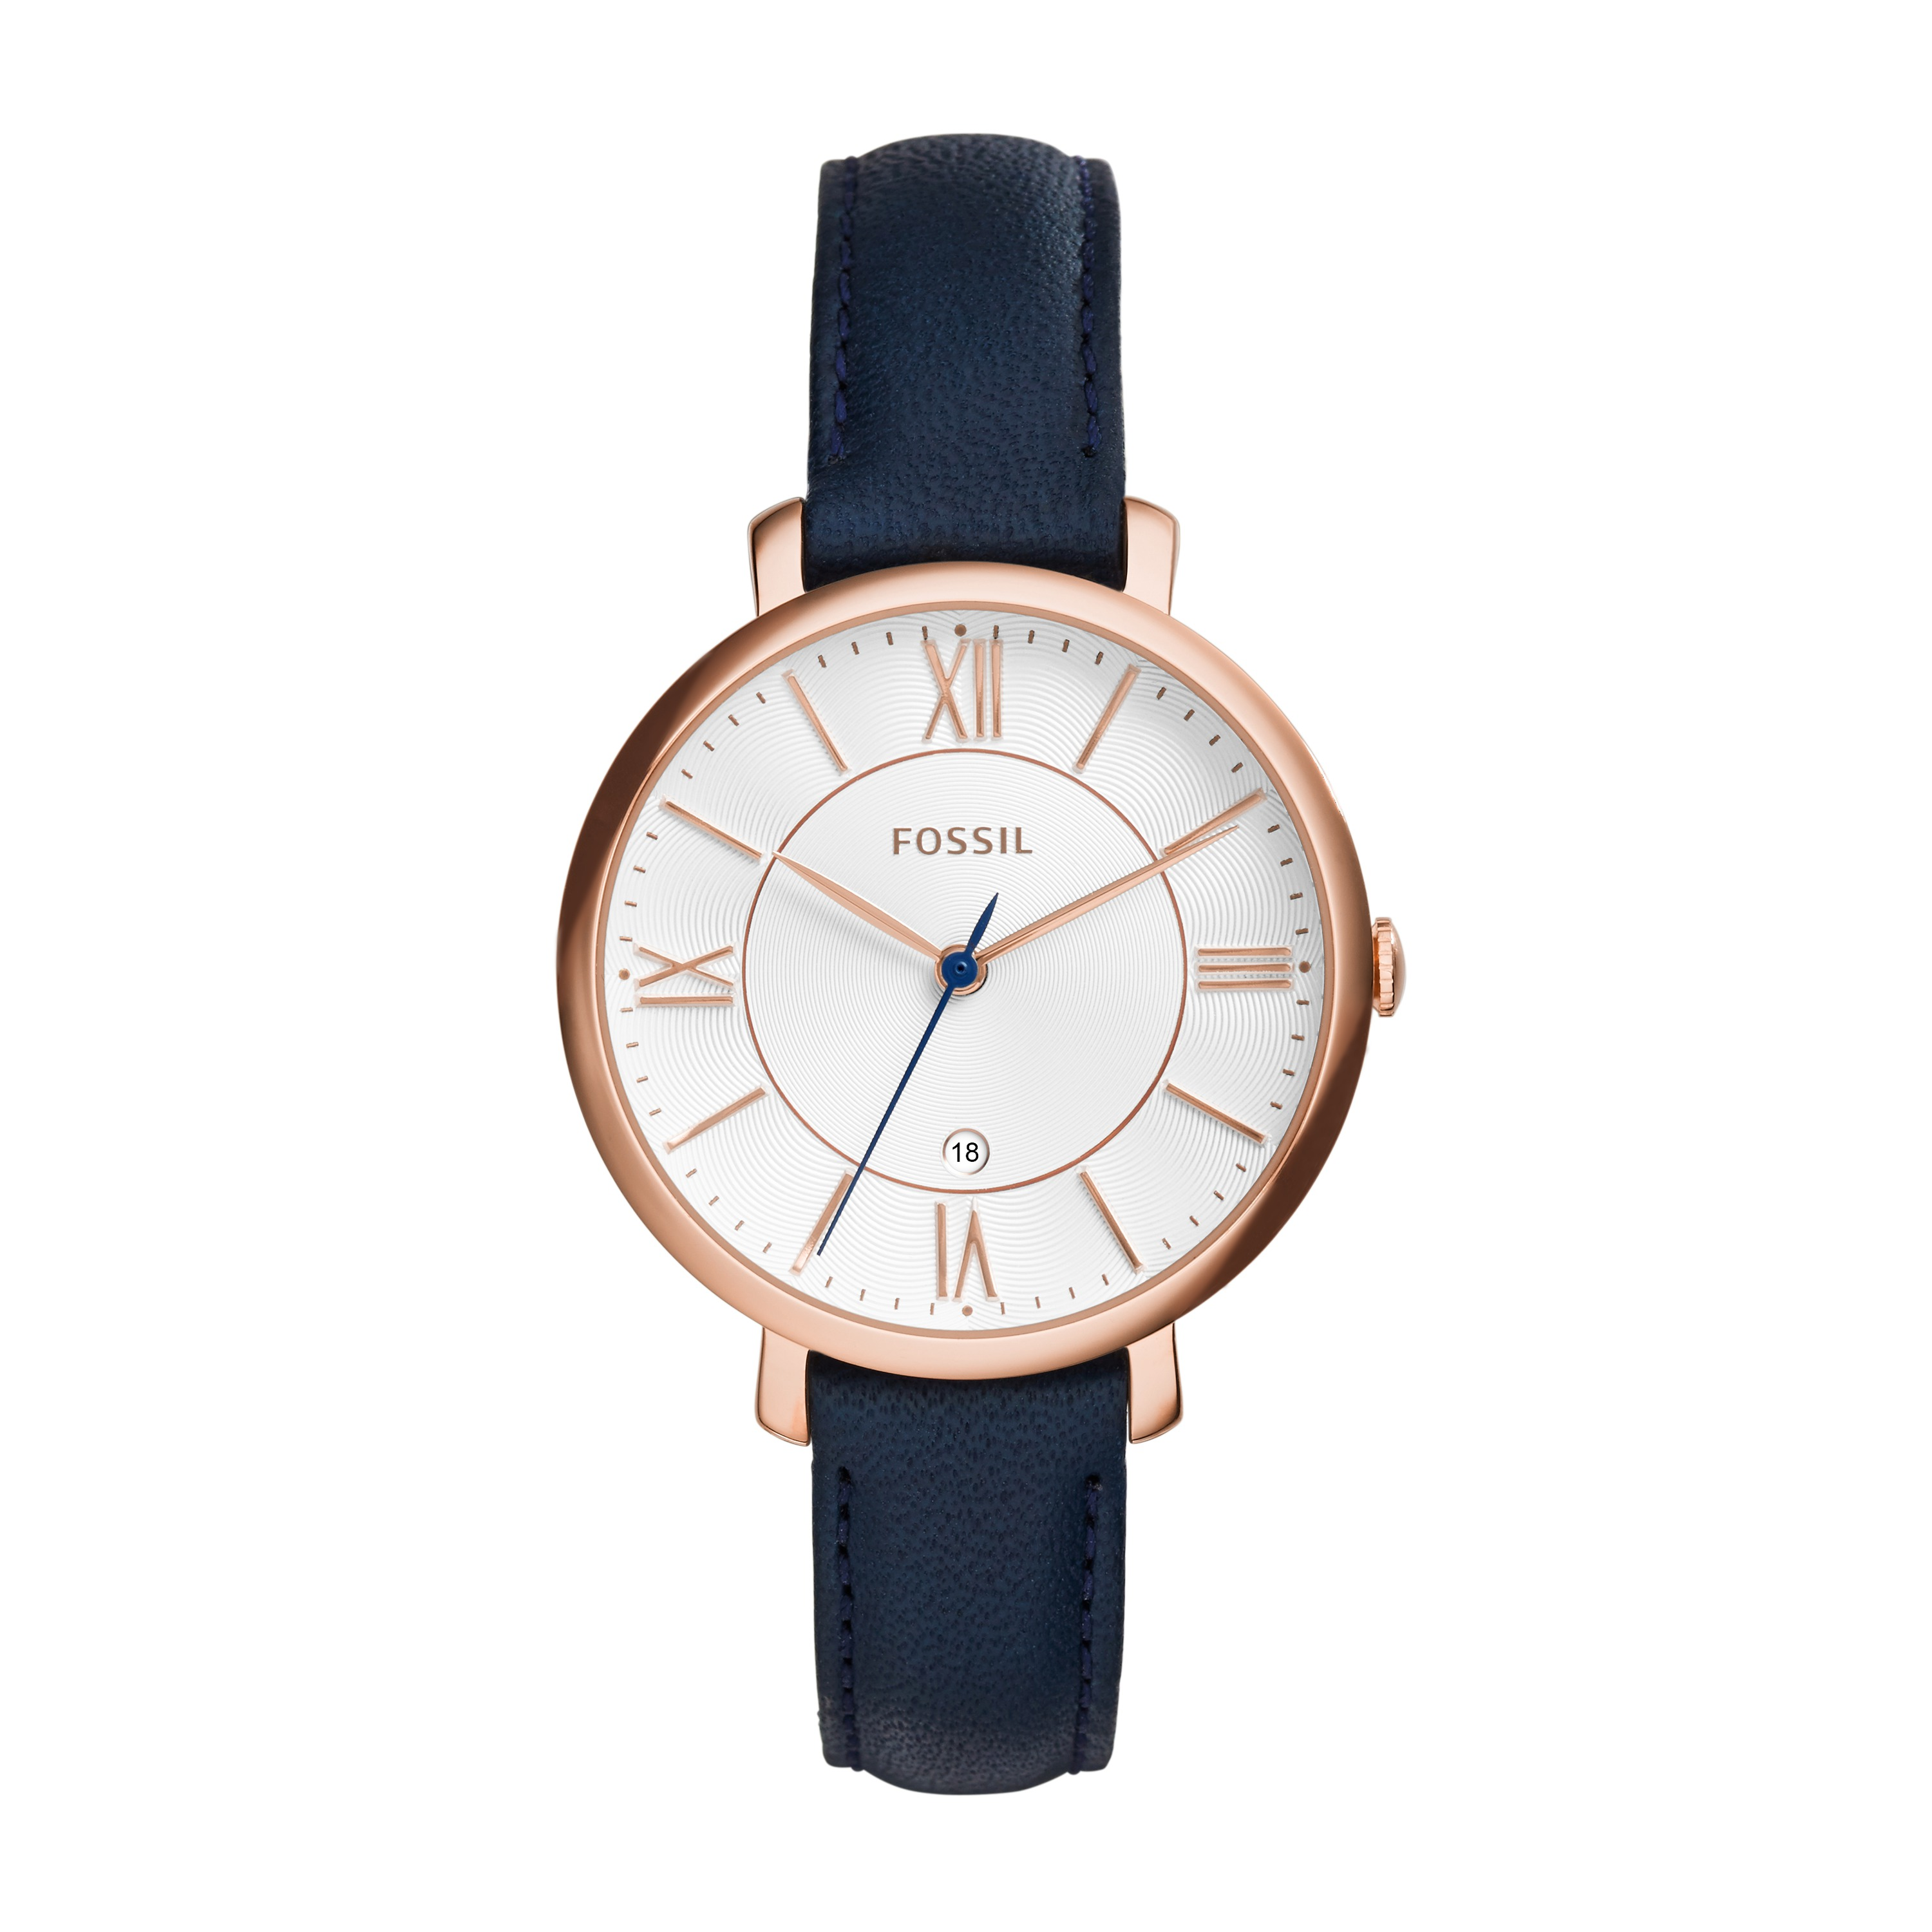clock: (596, 600, 1341, 1343)
